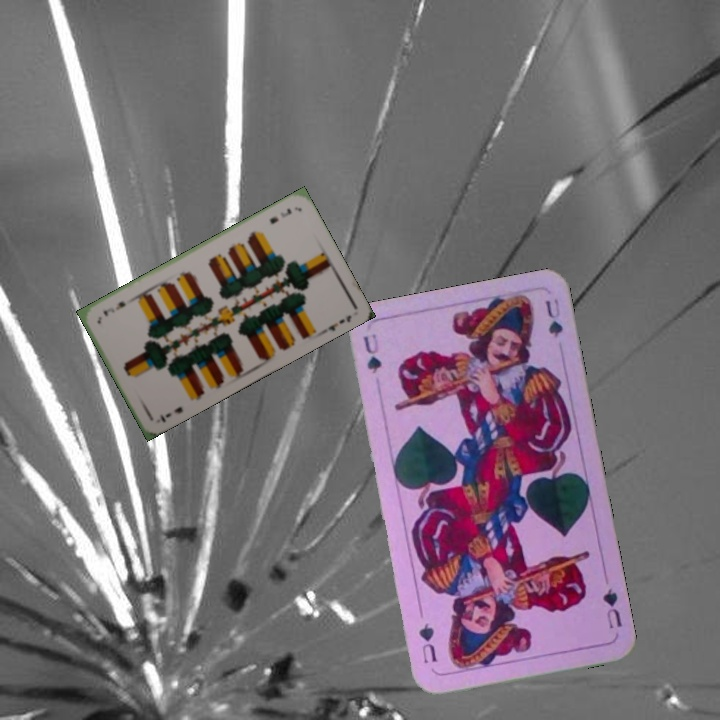E7: (265, 204, 294, 227), (156, 403, 185, 425)
GU: (599, 584, 625, 632), (359, 329, 384, 377)
